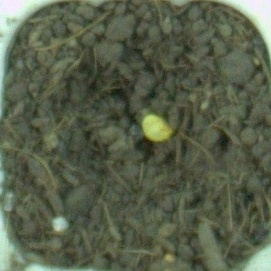chilli seed: (140, 112, 176, 143)
